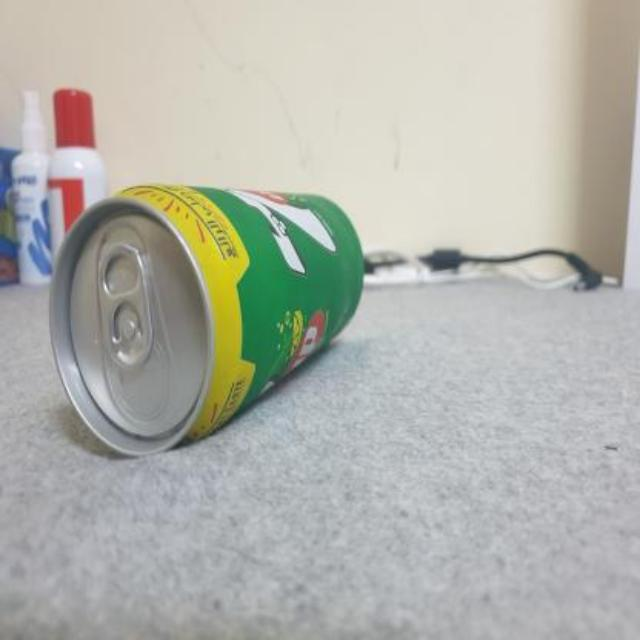metal: (49, 183, 360, 452)
